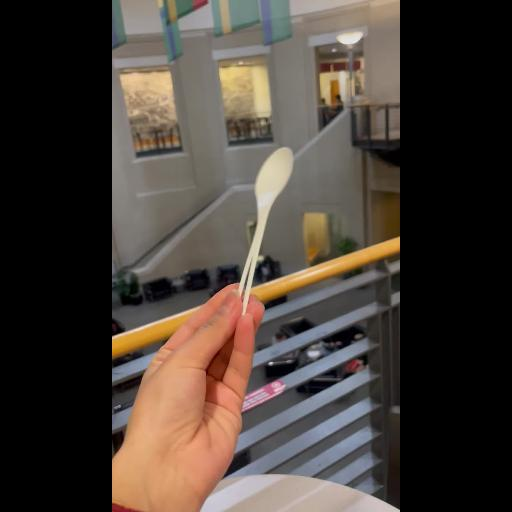utensil: (212, 139, 308, 335)
